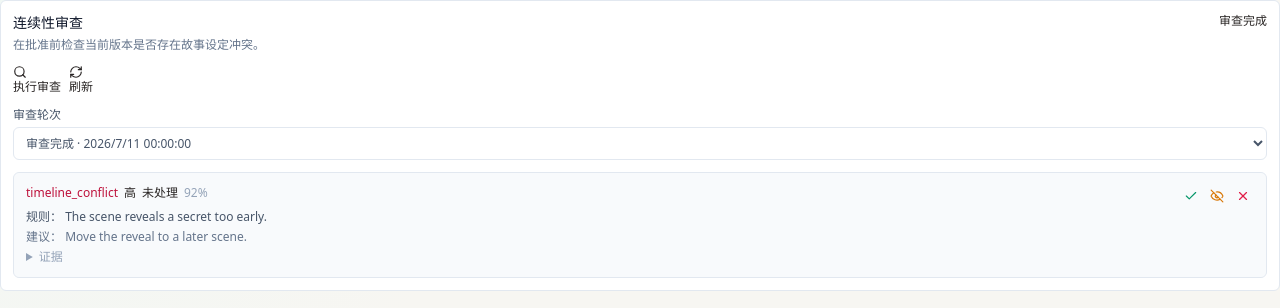
ReviewIssuePanel › updates an issue to accepted in the selected run and refetches it
Click the button named "接受问题" at (1191, 196), box [1180,185,1202,207]
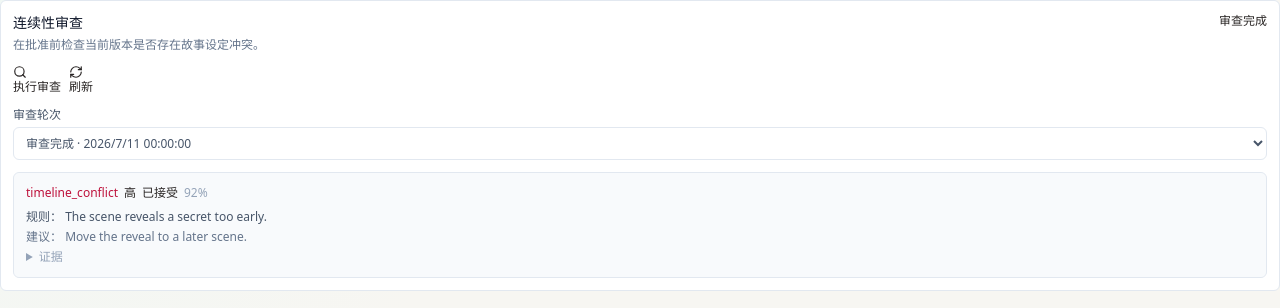
Now the text "已接受" is shown, box [142,185,178,201]
